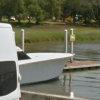Boat: (17, 32, 88, 91)
